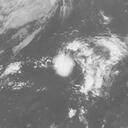cyclone: (54, 51, 75, 77)
